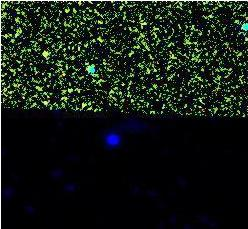star: (32, 37, 62, 67)
